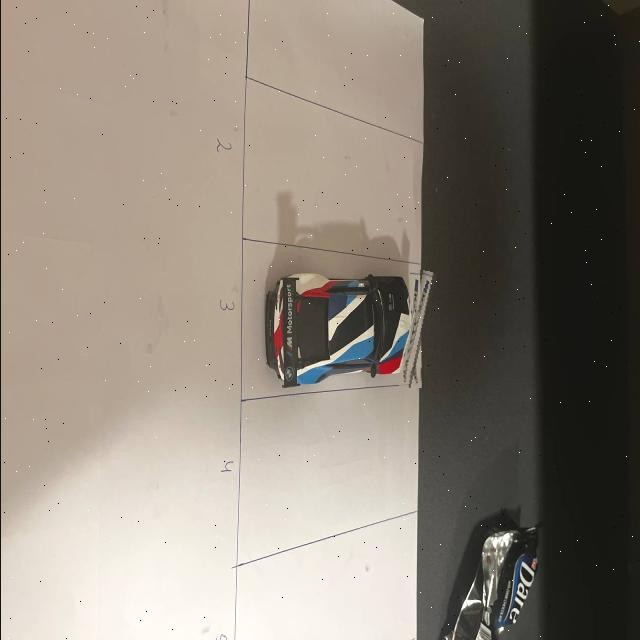KX 7777 KX: (399, 270, 431, 388)
